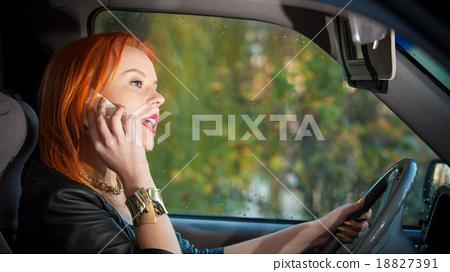talk: (78, 65, 165, 187)
